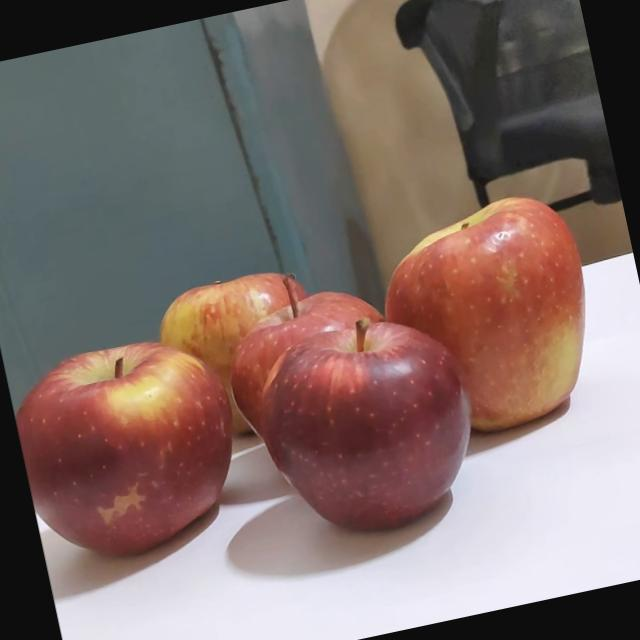apple: (7, 328, 278, 583), (367, 186, 619, 460), (258, 295, 510, 554), (218, 256, 426, 494), (146, 262, 332, 467)
